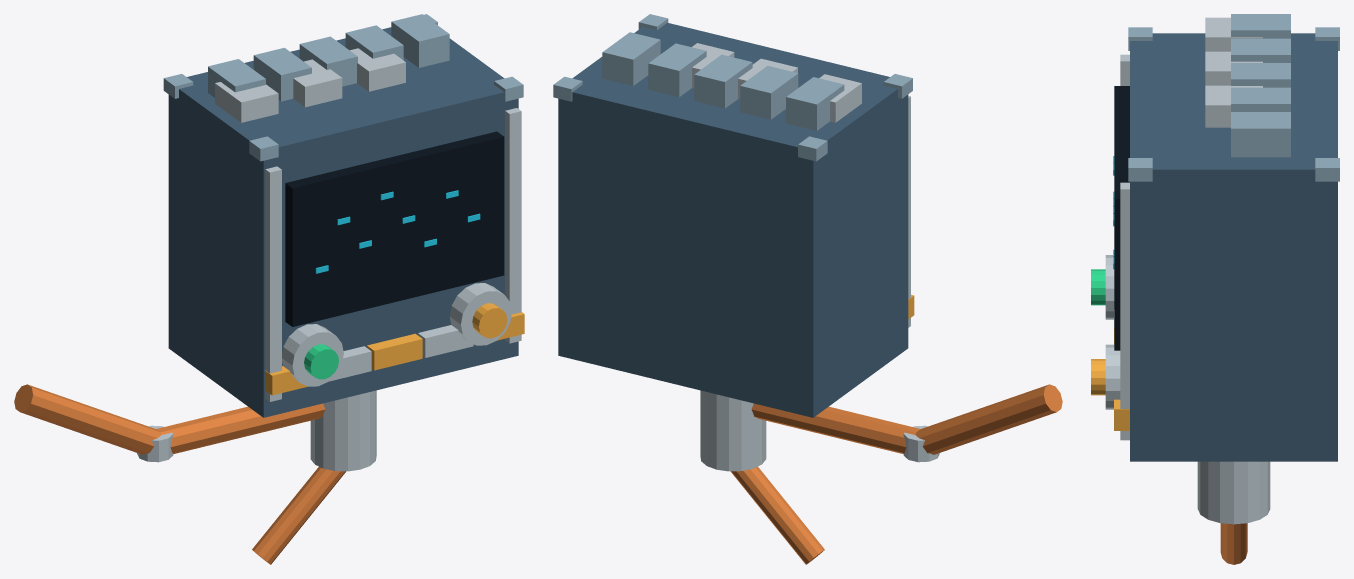
The model's file is 43_L74_PostExposureBakeTemperatureSensor.fbx.
3 renders of one model, left to right at view 1: azimuth 30°, elevation 25°; view 2: azimuth 150°, elevation 25°; view 3: azimuth 270°, elevation 25°, orthographic. The views are drawn at different scales.
Visible parts, largest first — view 1: PostExposureBakeTemperatureSensor; view 2: PostExposureBakeTemperatureSensor; view 3: PostExposureBakeTemperatureSensor.
Part boxes in pixels (<box>): PostExposureBakeTemperatureSensor: <box>14,14,524,564</box>; PostExposureBakeTemperatureSensor: <box>553,14,1062,564</box>; PostExposureBakeTemperatureSensor: <box>1091,14,1339,564</box>.
Size of the model in its own units: 80.06 by 81.38 by 34.46.
